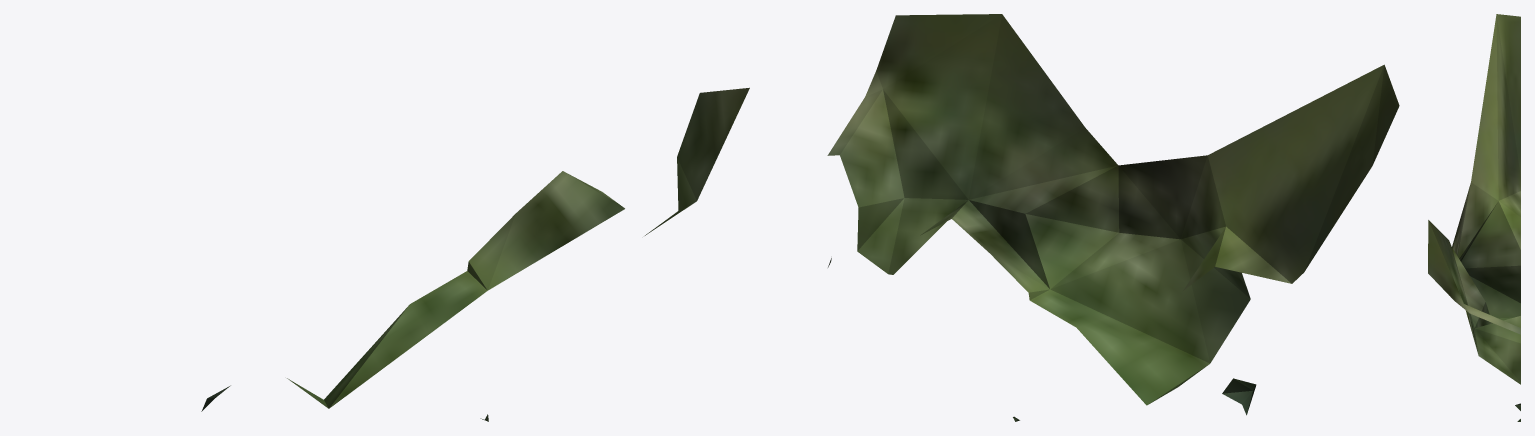
The picture shows the model from 3 angles, left to right: view 1: azimuth 30°, elevation 25°; view 2: azimuth 150°, elevation 25°; view 3: azimuth 270°, elevation 25°; orthographic projection. The views are drawn at different scales.
Size of the model in its own units: 48.89 by 35.11 by 10.13.
Materials: 1 (1 with a texture image).
